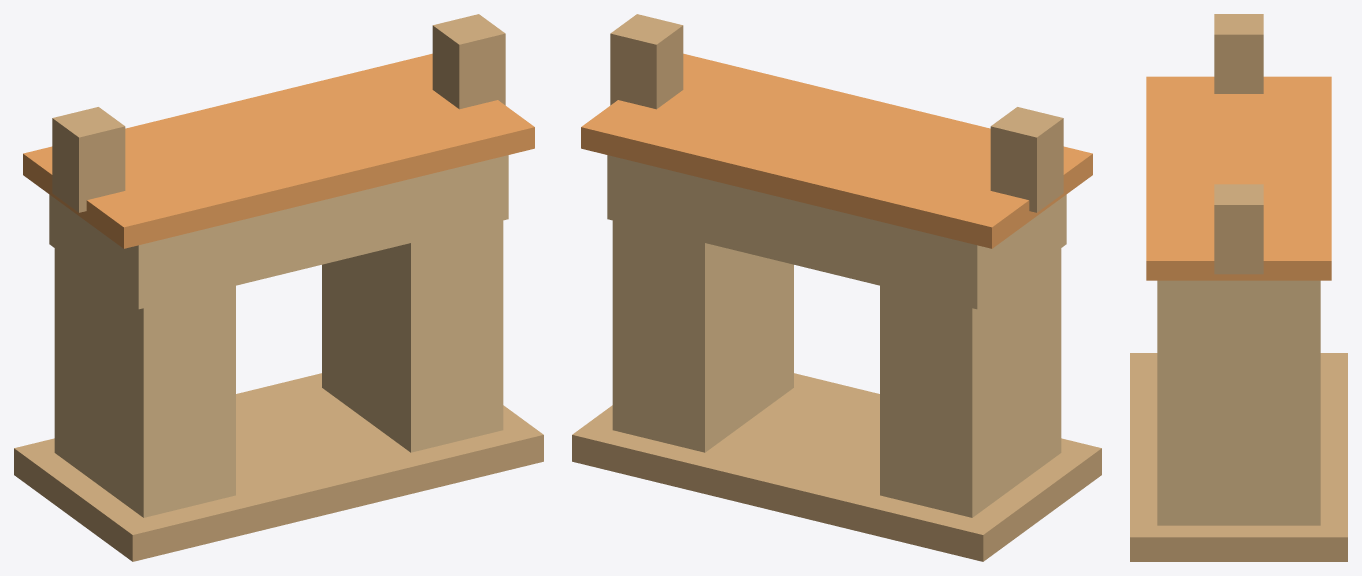
The model's file is sample-arch.glb.
The picture shows the model from 3 angles, left to right: view 1: azimuth 30°, elevation 25°; view 2: azimuth 150°, elevation 25°; view 3: azimuth 270°, elevation 25°; orthographic projection. The views are drawn at different scales.
Visible parts, largest first — view 1: arch; view 2: arch; view 3: arch.
Part boxes in pixels (x1=…): arch: x1=14, y1=14, x2=543, y2=561; arch: x1=572, y1=14, x2=1101, y2=561; arch: x1=1130, y1=14, x2=1347, y2=561.
Size of the model in its own units: 8.3 by 7.3 by 4.
